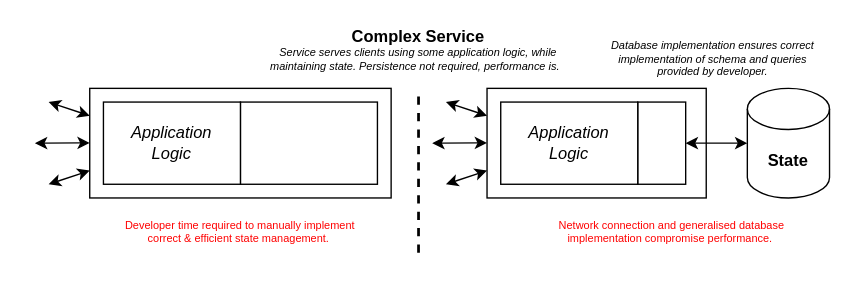
This 854x290 diagram has some shape labels left out. The centre of each missing label's shape, as x and y in pixels:
Complex Non-Persistent State: the point at 308,142
Wrapper: the point at 661,142
